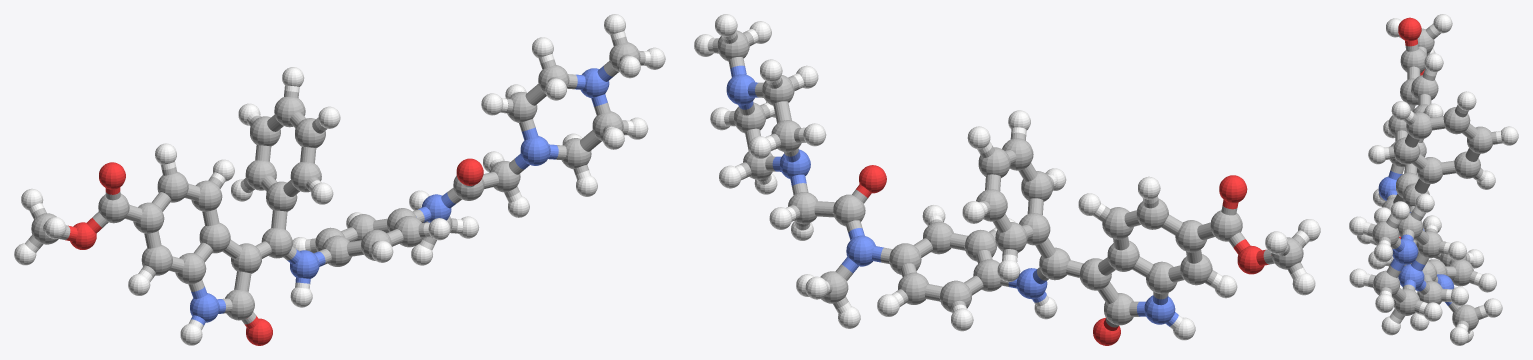
Rendered from scenem.fbx.
The picture shows the model from 3 angles, left to right: view 1: azimuth 30°, elevation 25°; view 2: azimuth 150°, elevation 25°; view 3: azimuth 270°, elevation 25°; orthographic projection. The views are drawn at different scales.
Visible parts, largest first — view 1: node_id205 (×32); view 2: node_id205 (×40); view 3: node_id205 (×62).
Boxes of the visible parts, box(x1,y1,x2,y2) form: node_id205 (×32): box(70, 42, 640, 345); node_id205 (×40): box(717, 30, 1303, 345); node_id205 (×62): box(1349, 14, 1518, 345).
Size of the model in its own units: 0.512 by 0.1869 by 0.1389.
